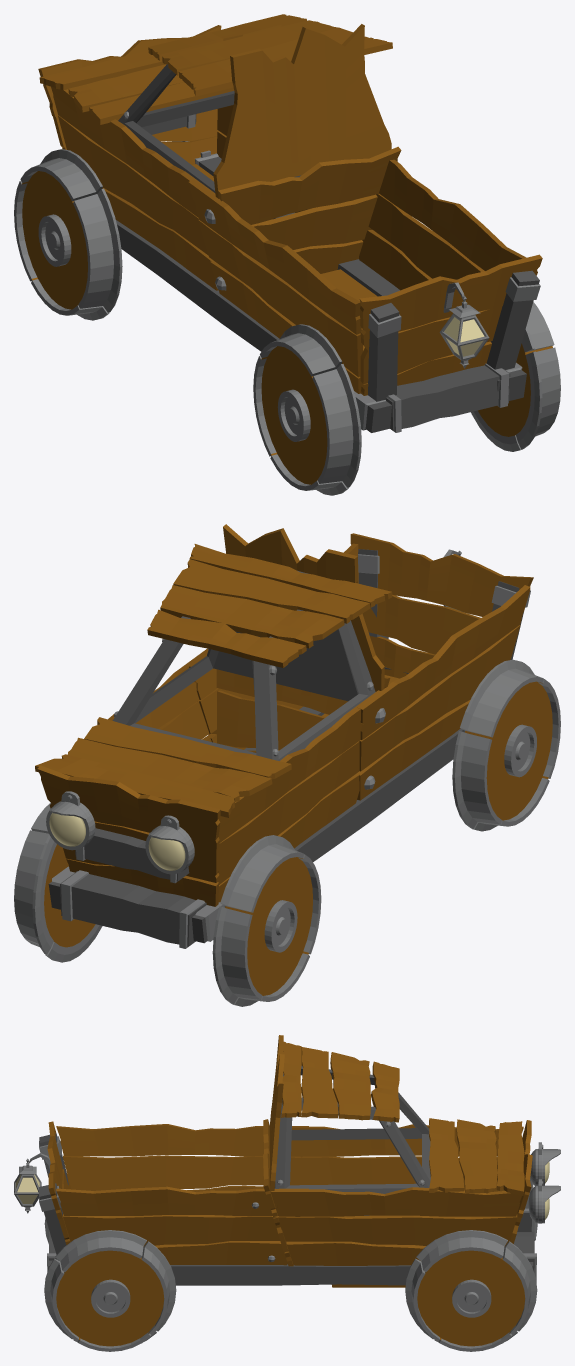
File: CartCar2.fbx
The picture shows the model from 3 angles, top to bottom: view 1: azimuth 30°, elevation 25°; view 2: azimuth 150°, elevation 25°; view 3: azimuth 270°, elevation 25°; orthographic projection. The views are drawn at different scales.
Visible parts, largest first — view 1: Cube.107, wheel.012, wheel.010, Cube.076, wheel.009, Cube.120, Cube.095, Cube.123, Cube.126, Cube.121, Cube.110, Cube.090 (+27 smaller); view 2: wheel.012, wheel.010, Frame.002, Cube.109, Cube.123, wheel.011, Cube.088, Cube.120, Cube.105, Cube.095, Cube.121, Cube.090 (+27 smaller); view 3: wheel.011, wheel.009, Cube.121, Cube.085, Cube.120, Cube.086, Cube.126, Frame.002, Cube.125, Cube.098, Cube.090, Cube.084 (+21 smaller).
Boxes of the visible parts, box(x1,y1,x2,y2) form: Cube.107: box(213, 24, 391, 198); wheel.012: box(14, 149, 122, 320); wheel.010: box(253, 324, 361, 495); Cube.076: box(218, 146, 401, 224); wheel.009: box(471, 302, 560, 451); Cube.120: box(188, 179, 361, 334); Cube.095: box(116, 220, 391, 432); Cube.123: box(359, 254, 542, 339); Cube.126: box(379, 159, 526, 270); Cube.121: box(198, 220, 362, 377); Cube.110: box(385, 363, 510, 432); Cube.090: box(58, 115, 208, 255); wheel.012: box(212, 835, 321, 1006); wheel.010: box(452, 659, 560, 831); Frame.002: box(112, 570, 375, 760); Cube.109: box(60, 870, 206, 948); Cube.123: box(350, 533, 533, 623); wheel.011: box(14, 802, 102, 962); Cube.088: box(37, 765, 220, 850); Cube.120: box(357, 585, 530, 739); Cube.105: box(160, 585, 344, 648); Cube.095: box(191, 728, 464, 943); Cube.121: box(359, 625, 520, 771); Cube.090: box(218, 741, 359, 884); wheel.011: box(405, 1230, 537, 1351); wheel.009: box(44, 1230, 176, 1351); Cube.121: box(63, 1155, 302, 1190); Cube.085: box(271, 1187, 521, 1216); Cube.120: box(56, 1124, 308, 1156); Cube.086: box(277, 1215, 517, 1246); Cube.126: box(56, 1186, 308, 1215); Frame.002: box(274, 1066, 430, 1193); Cube.125: box(63, 1214, 299, 1246); Cube.098: box(47, 1259, 533, 1285); Cube.090: box(290, 1156, 504, 1191); Cube.084: box(286, 1241, 425, 1265).
Size of the model in its own units: 158 by 229 by 425.
